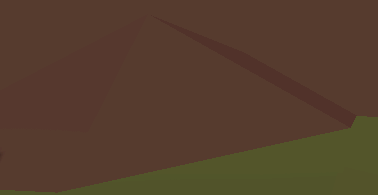rock: (1, 1, 378, 121)
